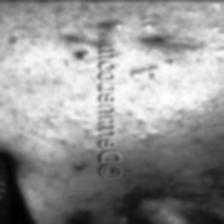Non-Cancerous Skin Condition: (72, 209, 89, 224), (94, 20, 118, 28), (74, 50, 86, 57), (75, 160, 84, 169)
